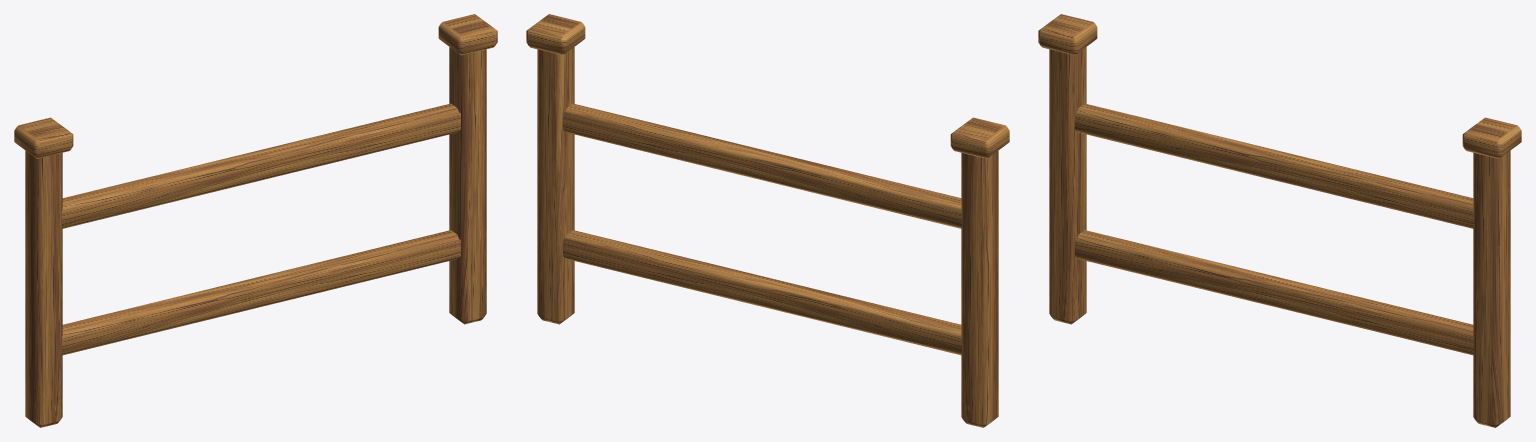
The model's file is 10_Valla_Travesanos.obj.
The picture shows the model from 3 angles, left to right: view 1: azimuth 30°, elevation 25°; view 2: azimuth 150°, elevation 25°; view 3: azimuth 330°, elevation 25°; orthographic projection.
Parts seen in each view (by area): view 1: 10_Valla_Travesanos_Wood; view 2: 10_Valla_Travesanos_Wood; view 3: 10_Valla_Travesanos_Wood.
Boxes of the visible parts, box(x1,y1,x2,y2) form: 10_Valla_Travesanos_Wood: box(14, 14, 497, 427); 10_Valla_Travesanos_Wood: box(526, 14, 1009, 427); 10_Valla_Travesanos_Wood: box(1038, 14, 1521, 427).
Size of the model in its own units: 2.19 by 1.33 by 0.19.
Materials: 1 (1 with a texture image).
